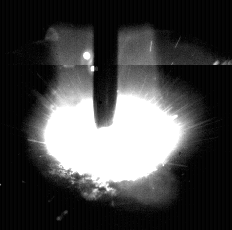arame: (94, 0, 118, 128)
poca: (44, 0, 180, 230)
